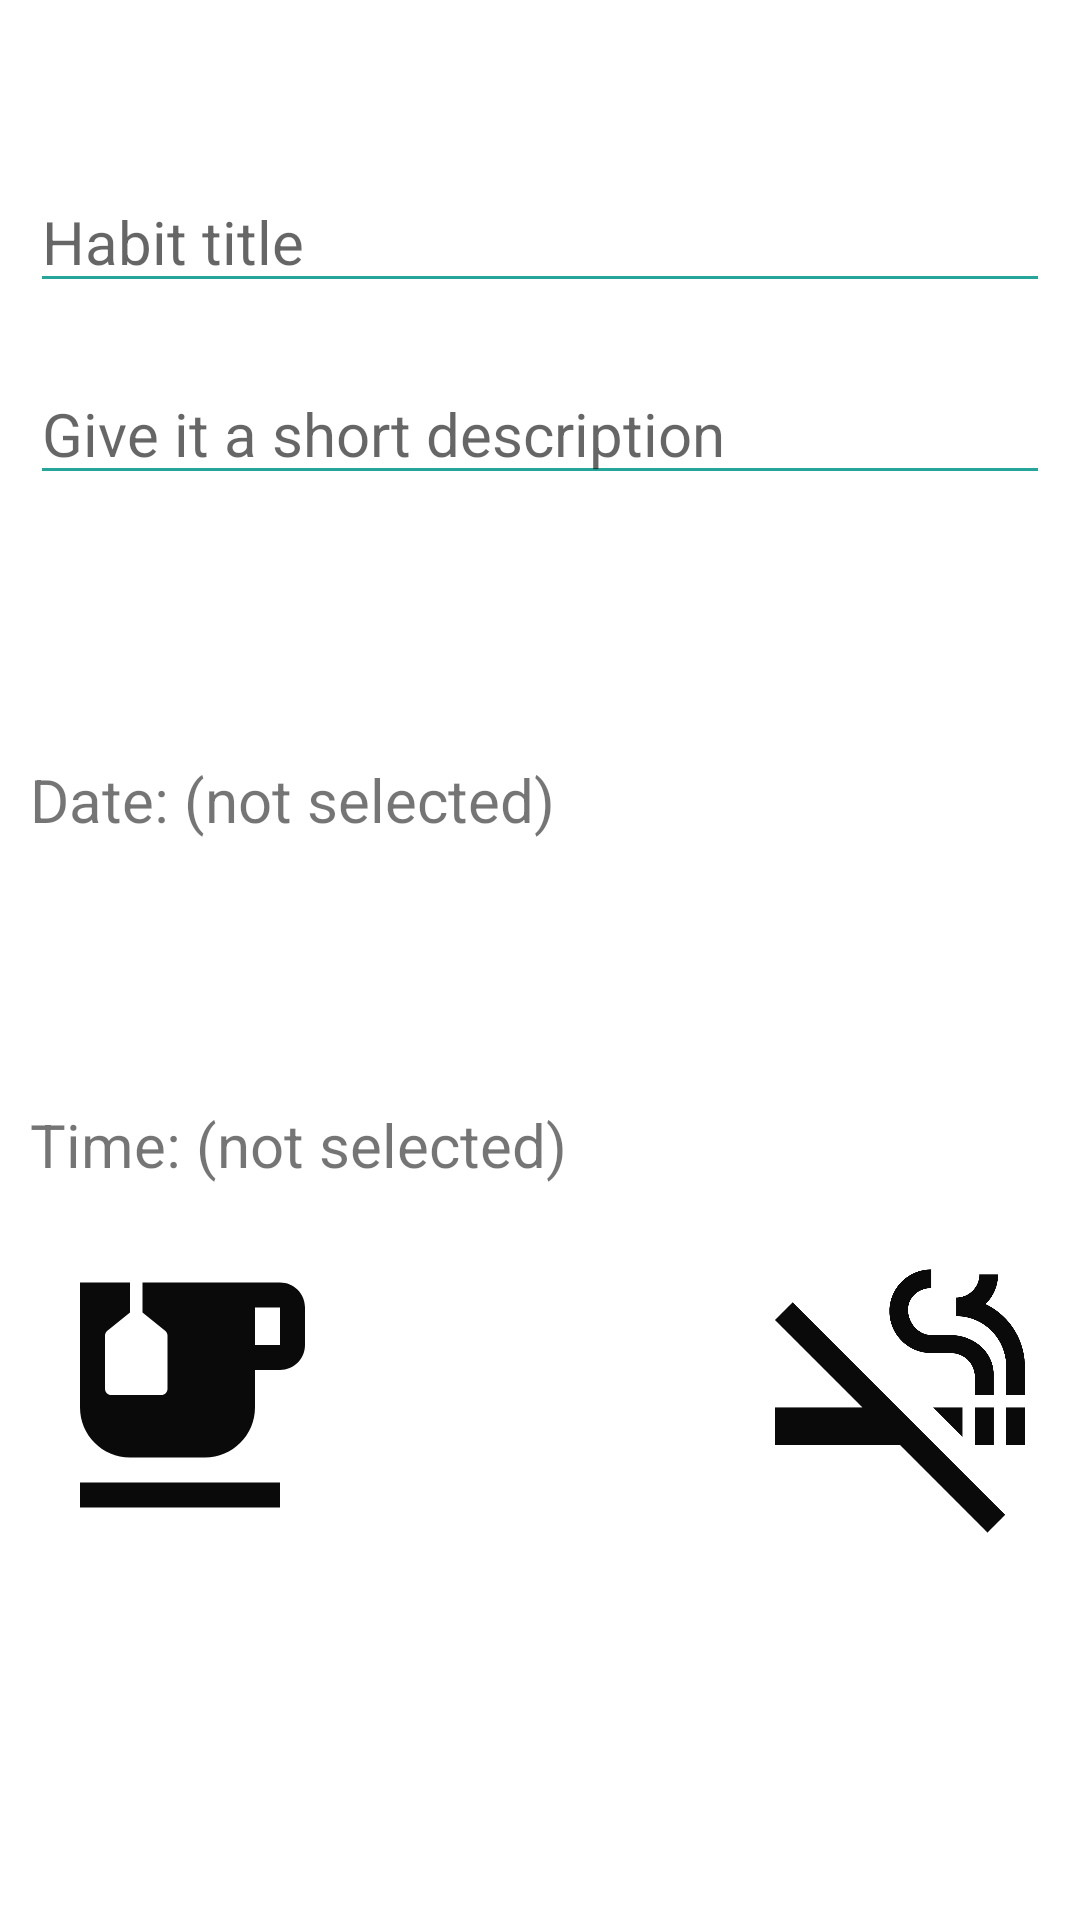

Icons on this 1080px×1920px Android screen, each with its box as (x1, y1, x2, y2):
smoke: (775, 1269, 1025, 1533)
tea: (80, 1282, 305, 1508)
